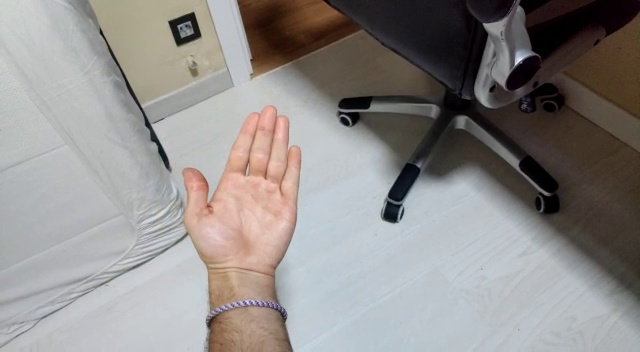Palm: (176, 98, 305, 280)
